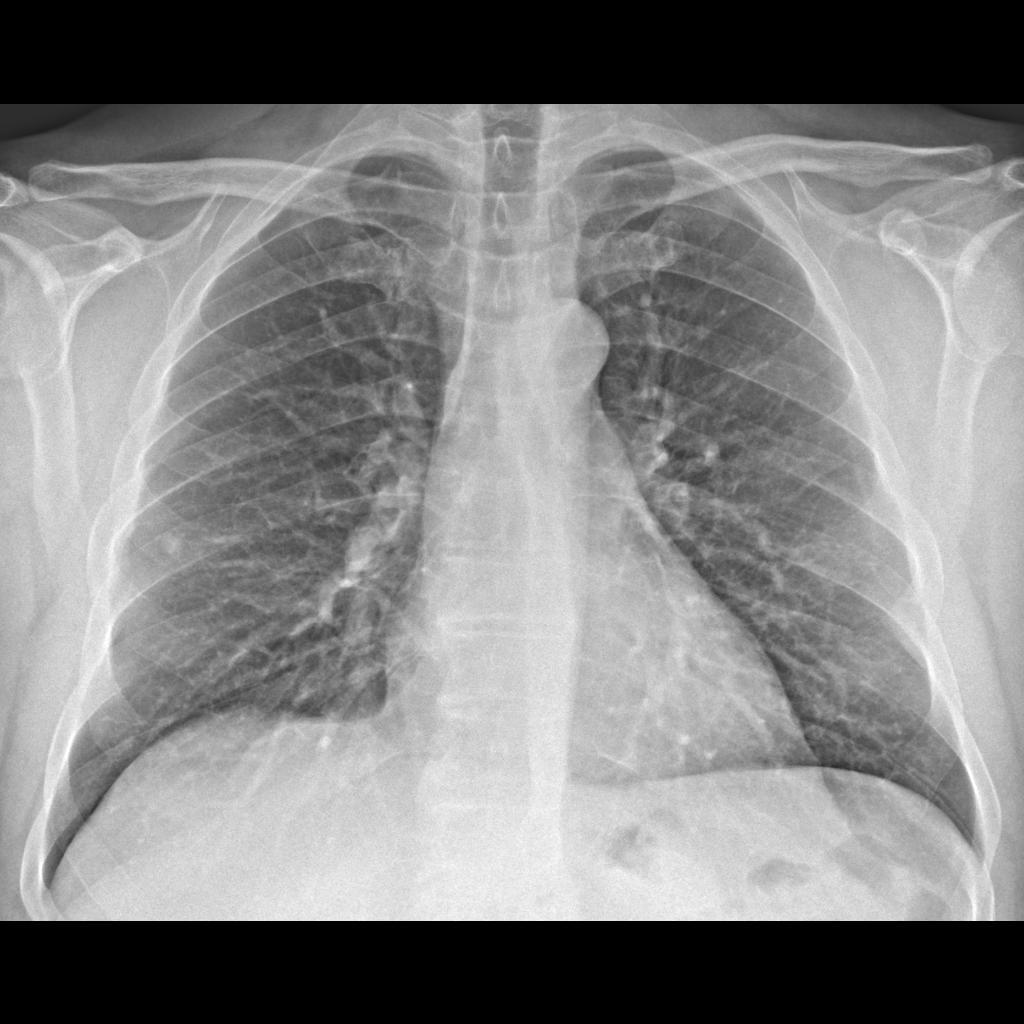Nodule: (152, 532, 184, 569)
